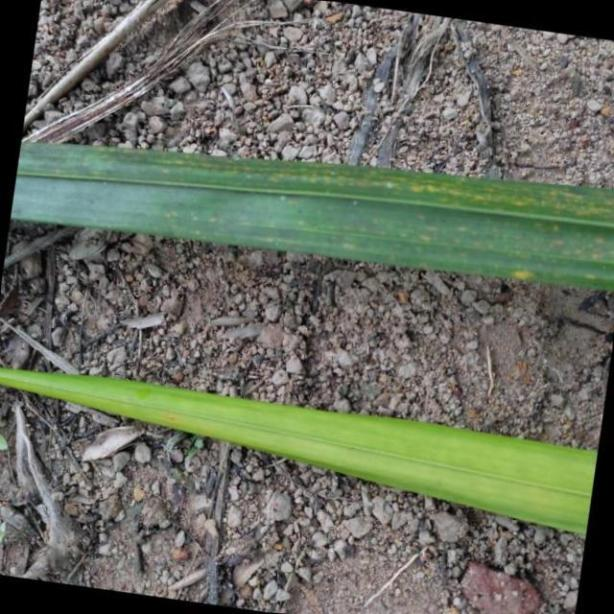nitrogen: (0, 356, 614, 539), (7, 135, 614, 286)
